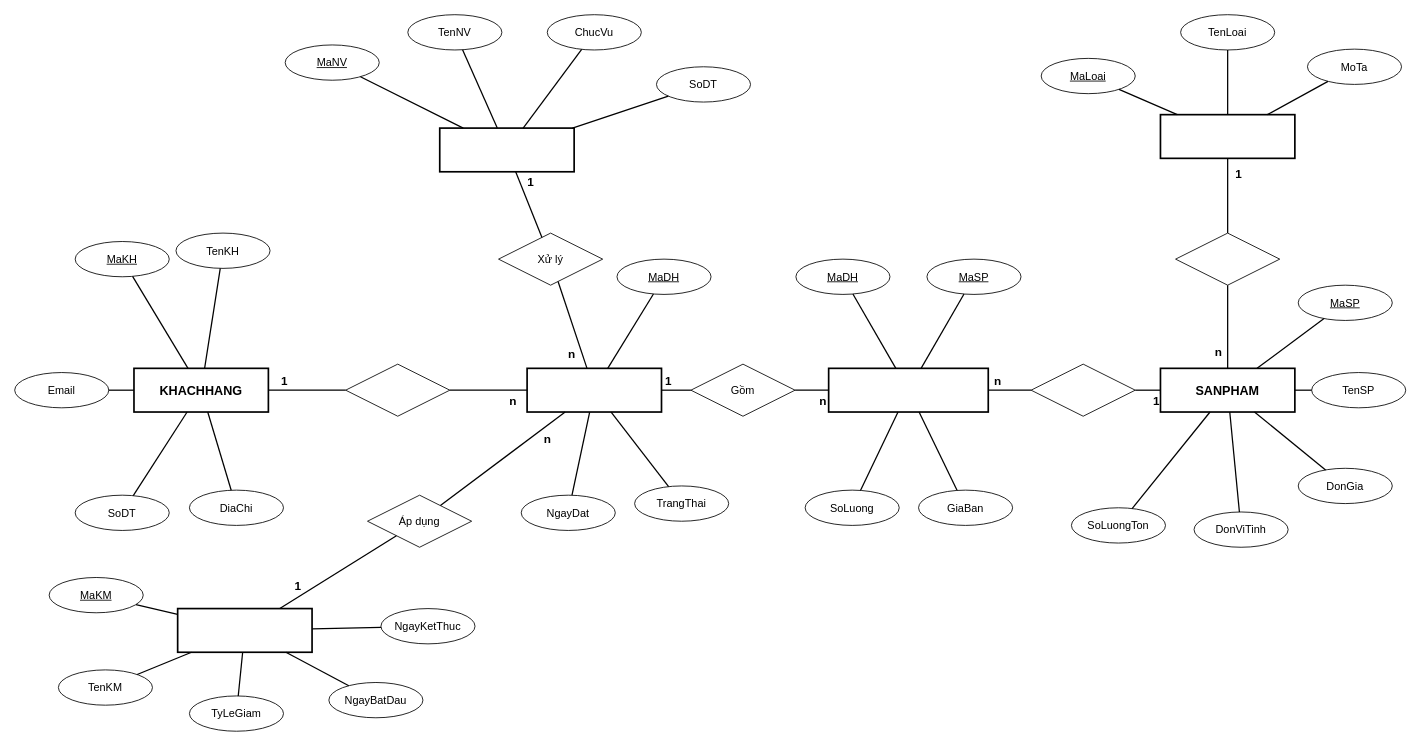
Image size: 1420x746. Some labels were removed from this diagram. The shapes that lost their labels are listed below. From the top down, each one's box as (x1, y1, x2, y2) in pixels, then its label:
(438, 127, 575, 172): NHANVIEN
(1159, 113, 1295, 159): LOAISANPHAM
(1175, 232, 1280, 285): Thuộc
(345, 363, 450, 416): Đặt
(526, 367, 662, 412): DONHANG
(827, 367, 989, 412): CHITIETDONHANG
(1030, 363, 1135, 416): Có trong
(176, 607, 312, 653): KHUYENMAI
